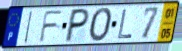7: (142, 6, 160, 42)
F: (38, 10, 65, 44)
I: (23, 9, 35, 45)
L: (116, 9, 134, 41)
O: (88, 7, 114, 44)
P: (63, 8, 91, 45)
